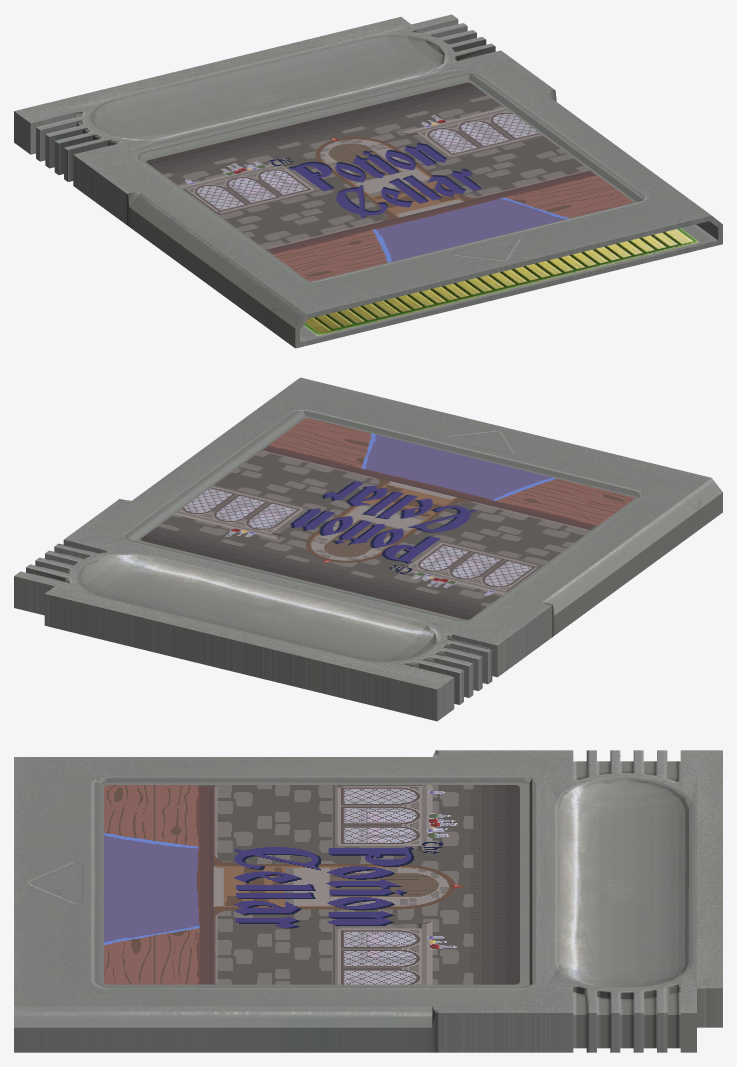
Rendered from GameboyCartridge.fbx.
3 renders of one model, top to bottom at view 1: azimuth 30°, elevation 25°; view 2: azimuth 150°, elevation 25°; view 3: azimuth 270°, elevation 25°, orthographic. The views are drawn at different scales.
Parts seen in each view (by area): view 1: Cartridge, Label, Chip; view 2: Cartridge, Label; view 3: Cartridge, Label.
Boxes of the visible parts, x1,y1,x2,y2 form: Cartridge: [14, 14, 722, 348]; Label: [146, 82, 632, 281]; Chip: [303, 228, 698, 335]; Cartridge: [14, 377, 722, 721]; Label: [140, 418, 634, 619]; Cartridge: [14, 750, 722, 1052]; Label: [104, 785, 519, 984].
Size of the model in its own units: 2.83 by 3.22 by 0.1993.
